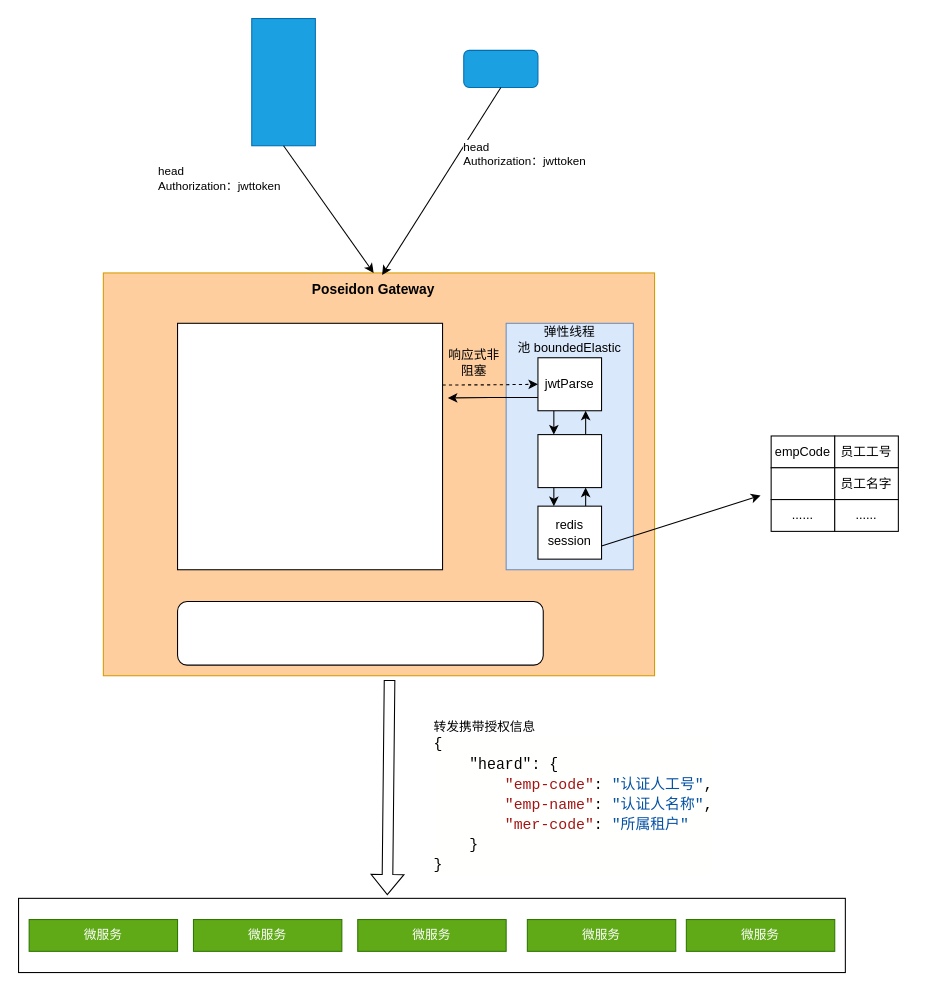
Image size: 938x991. Some labels were removed from this diagram. The box of each missing label's shape, as (x1, y1, x2, y2) in pixels:
empName: (770, 467, 835, 500)
jwt验证: (537, 434, 602, 488)
LoadBalancer负载均衡: (176, 600, 543, 665)
PC端: (251, 17, 315, 146)
ReactorAccessGatewayFilter: (176, 322, 443, 570)
移动端: (463, 49, 538, 87)
